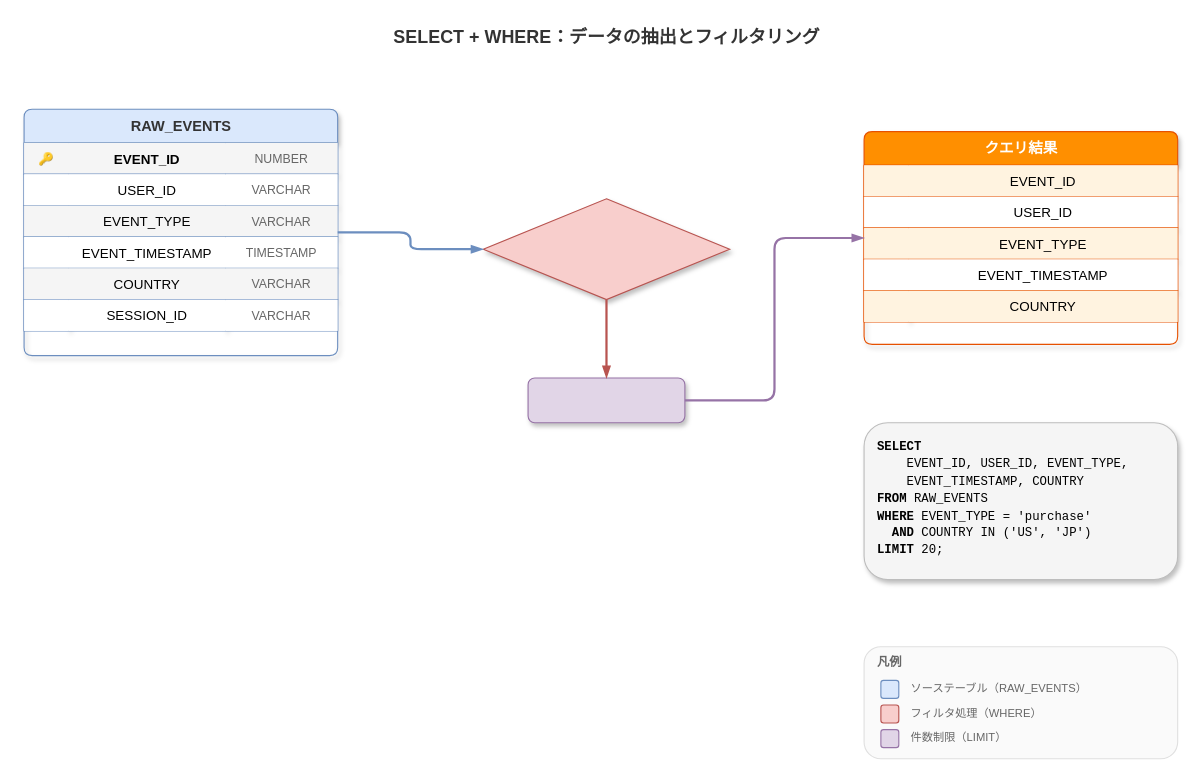
The diagram is 1204 pixels wide and 778 high, and some of its shapes have lost their labels. Each missing label, with the centre of its shape:
LIMIT 20: the point at 607,401
WHERE EVENT_TYPE = 'purchase' AND COUNTRY IN ('US', 'JP'): the point at 607,250
